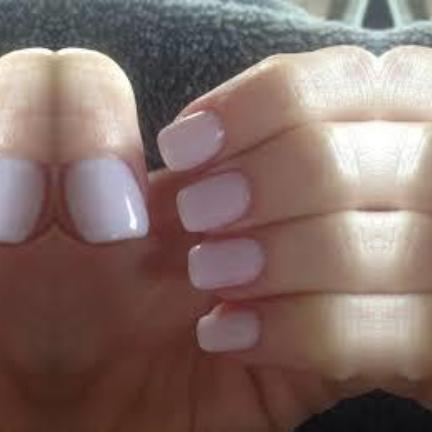Nail: (64, 160, 149, 241), (176, 171, 252, 231), (156, 111, 226, 172), (187, 238, 264, 289), (0, 160, 44, 241), (196, 306, 261, 353)
